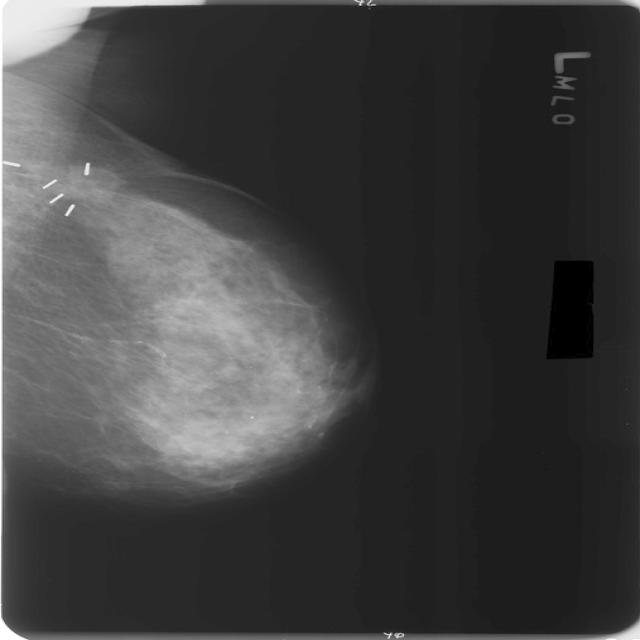tumour: (28, 160, 121, 204)
